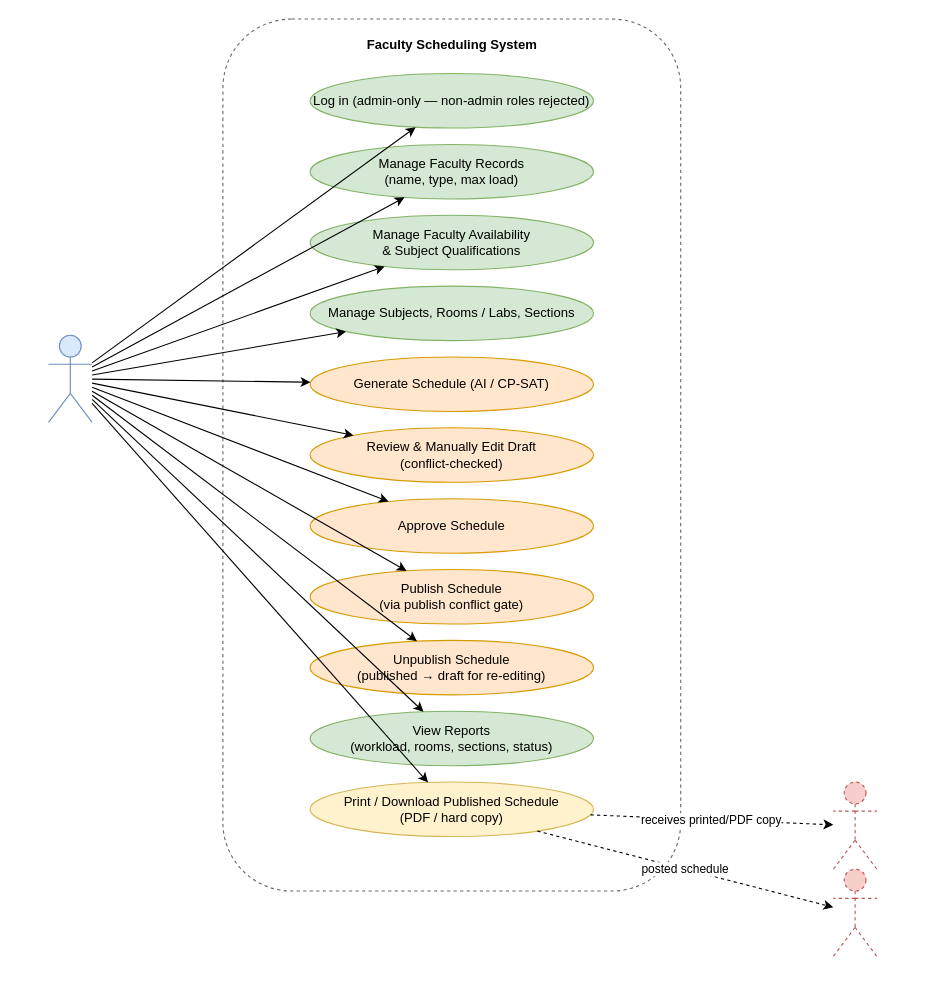
Some shapes in this 940 by 998 pixel diagram are drawn without their labels. The centre of each missing label's shape, as x and y in pixels:
"Admin / Department Head" goes at [69,378].
"Faculty (scheduling records — NOT system users)" goes at [854,825].
"Students" goes at [854,912].
